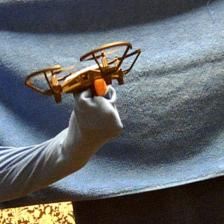drone: (24, 40, 142, 102)
